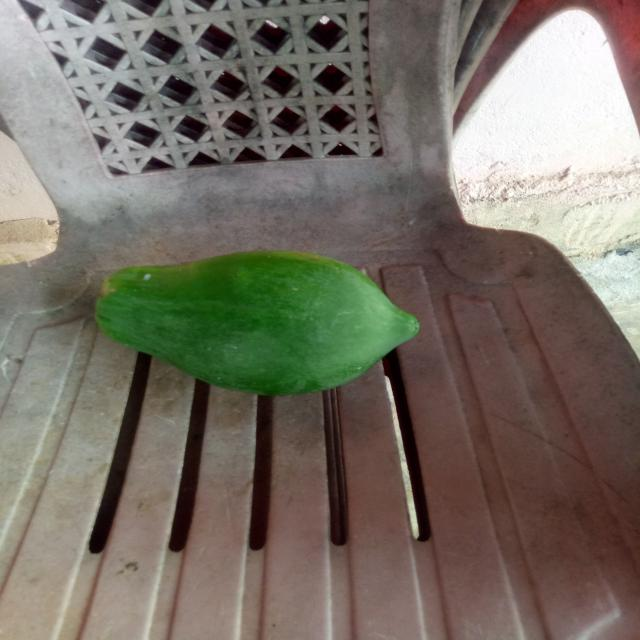Pepaya unrippen: (79, 244, 434, 405)
